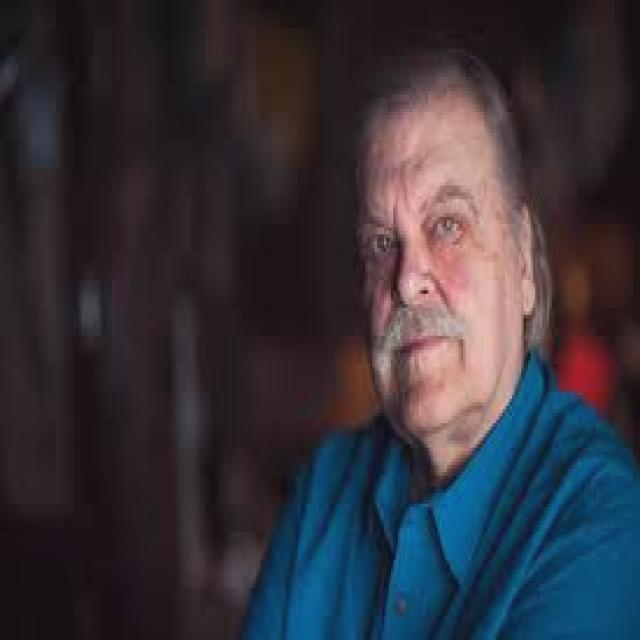normal_face: (326, 95, 566, 450)
